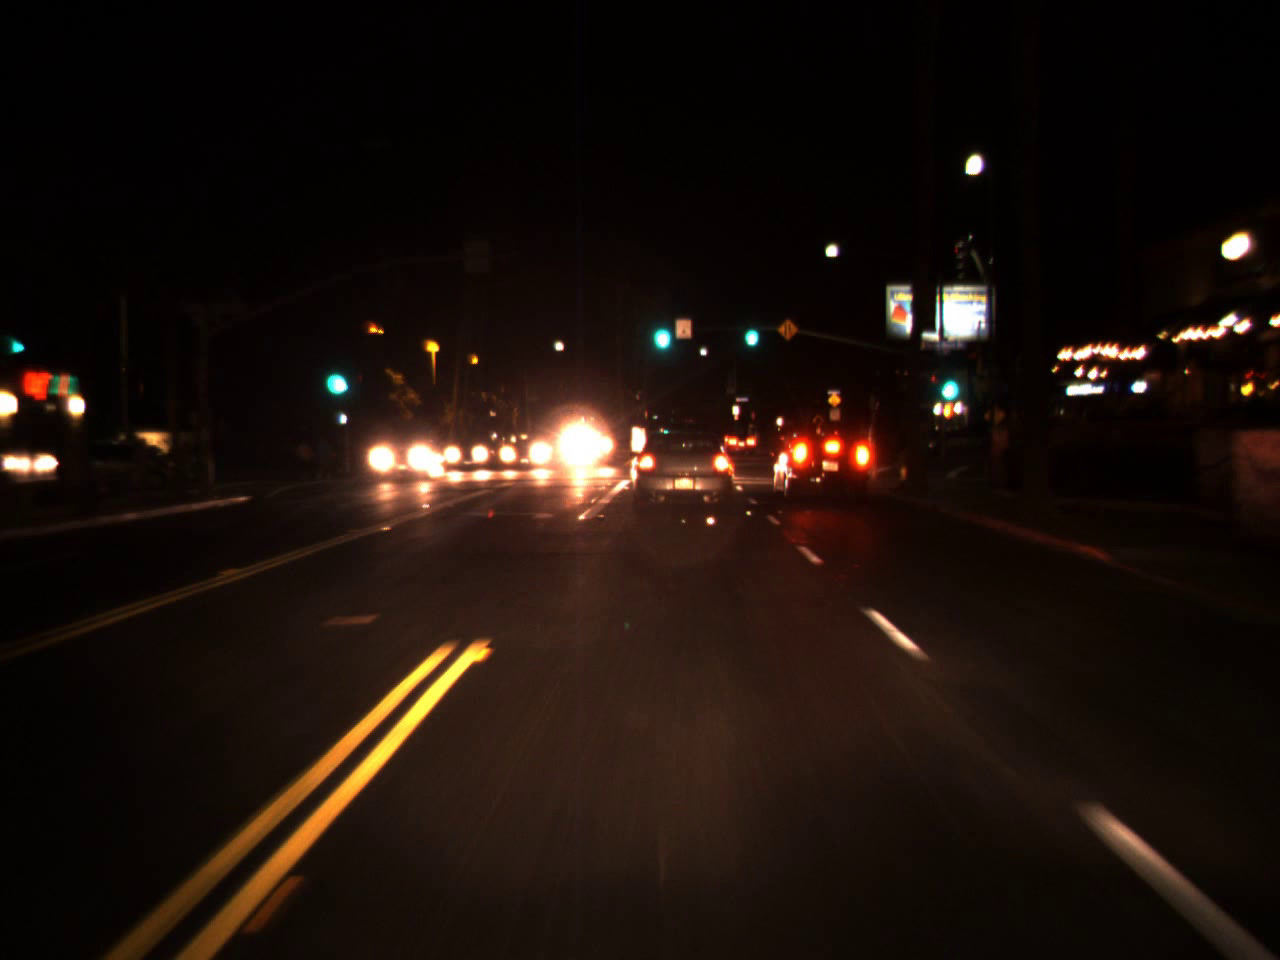go: (321, 346, 348, 403), (647, 303, 674, 357), (935, 360, 959, 402), (740, 307, 761, 352)
